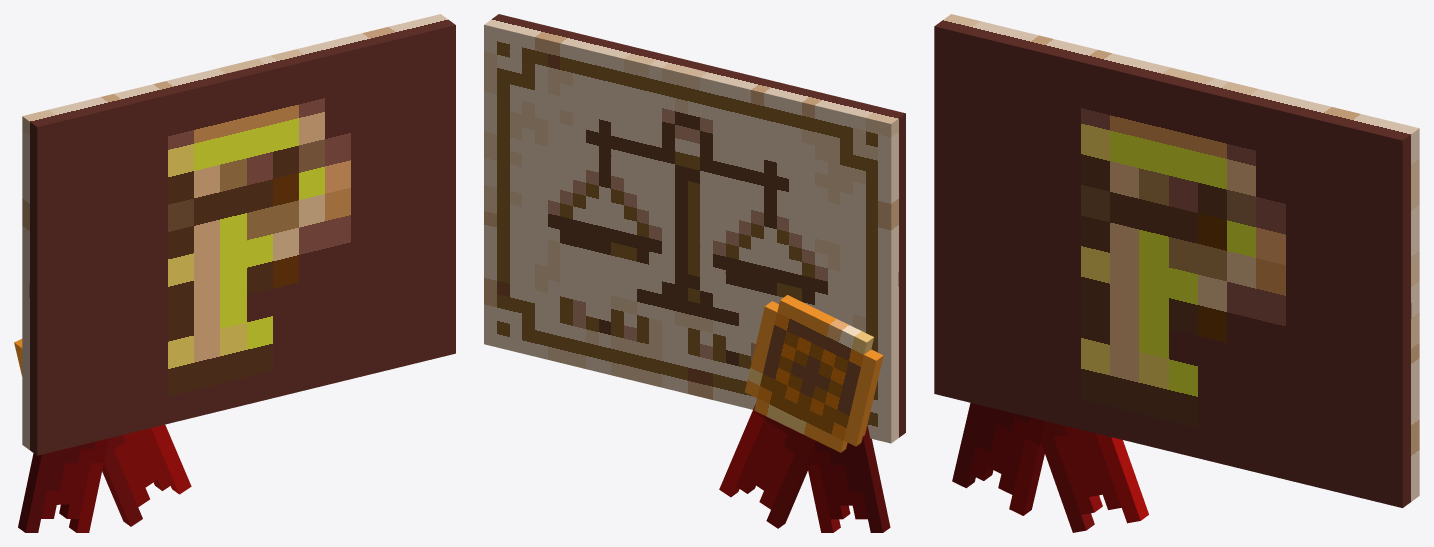
Rendered from doc_foundersTrade03.gltf.
3 renders of one model, left to right at view 1: azimuth 30°, elevation 25°; view 2: azimuth 150°, elevation 25°; view 3: azimuth 330°, elevation 25°, orthographic. The views are drawn at different scales.
Visible parts, largest first — view 1: FoundersTrade02-Local, ribbon02$$(1)-Local, ribbon01$$(1)-Local; view 2: FoundersTrade02-Local, seal$$(1)-Local, ribbon01$$(1)-Local, ribbon02$$(1)-Local; view 3: FoundersTrade02-Local, ribbon01$$(1)-Local, ribbon02$$(1)-Local.
Part boxes in pixels (bbox=[...]): FoundersTrade02-Local: bbox=[22, 14, 455, 455]; ribbon02$$(1)-Local: bbox=[18, 438, 108, 532]; ribbon01$$(1)-Local: bbox=[102, 424, 191, 526]; FoundersTrade02-Local: bbox=[484, 14, 905, 443]; seal$$(1)-Local: bbox=[744, 295, 883, 452]; ribbon01$$(1)-Local: bbox=[719, 404, 815, 528]; ribbon02$$(1)-Local: bbox=[806, 425, 890, 532]; FoundersTrade02-Local: bbox=[934, 14, 1419, 507]; ribbon01$$(1)-Local: bbox=[1041, 421, 1148, 532]; ribbon02$$(1)-Local: bbox=[952, 403, 1046, 515].
Bounding box in the file's own units: 32 × 31.94 × 3.55.
4 materials, 4 textured.
